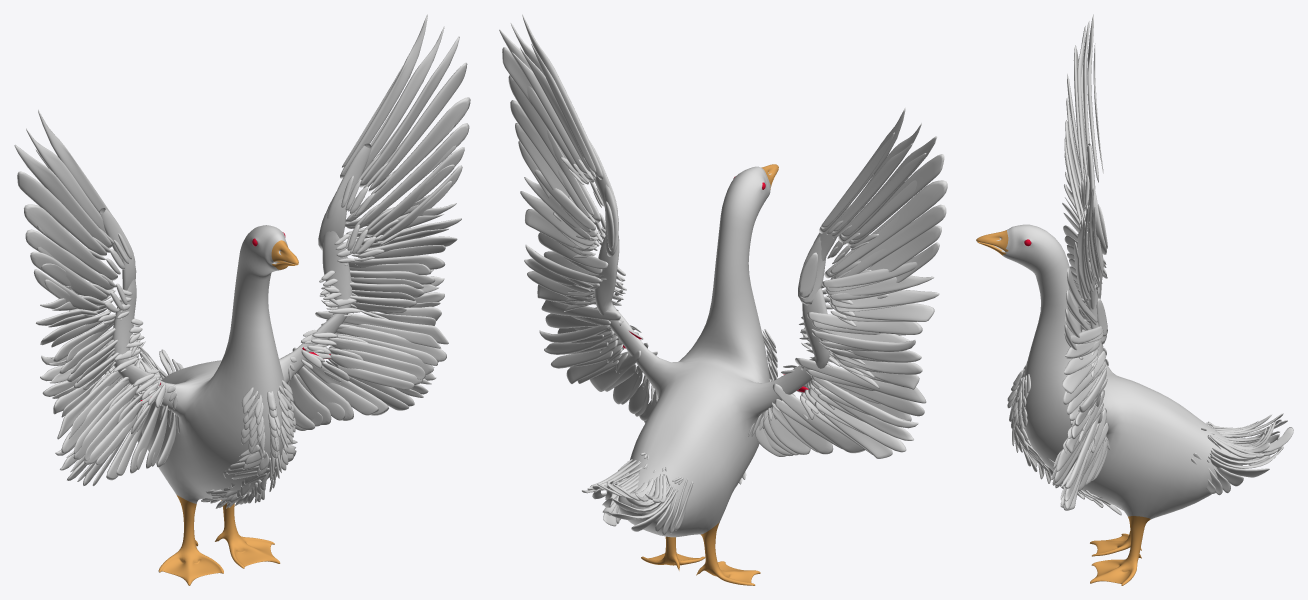
The model's file is goose_01.fbx.
3 renders of one model, left to right at view 1: azimuth 30°, elevation 25°; view 2: azimuth 150°, elevation 25°; view 3: azimuth 270°, elevation 25°, orthographic. The views are drawn at different scales.
Visible parts, largest first — view 1: Circle.001; view 2: Circle.001; view 3: Circle.001.
Part boxes in pixels (x1=…): Circle.001: x1=14, y1=14, x2=470, y2=585; Circle.001: x1=499, y1=14, x2=947, y2=585; Circle.001: x1=976, y1=14, x2=1293, y2=585.
Size of the model in its own units: 1179 by 1284 by 797.
